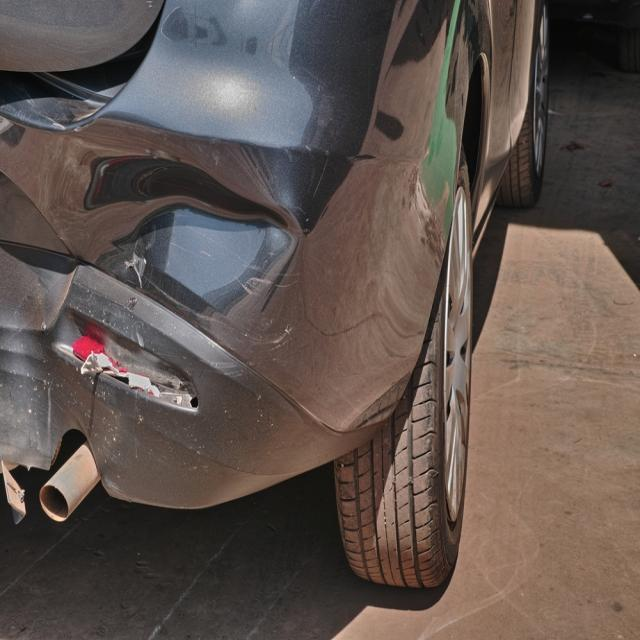dent: (84, 149, 301, 281)
